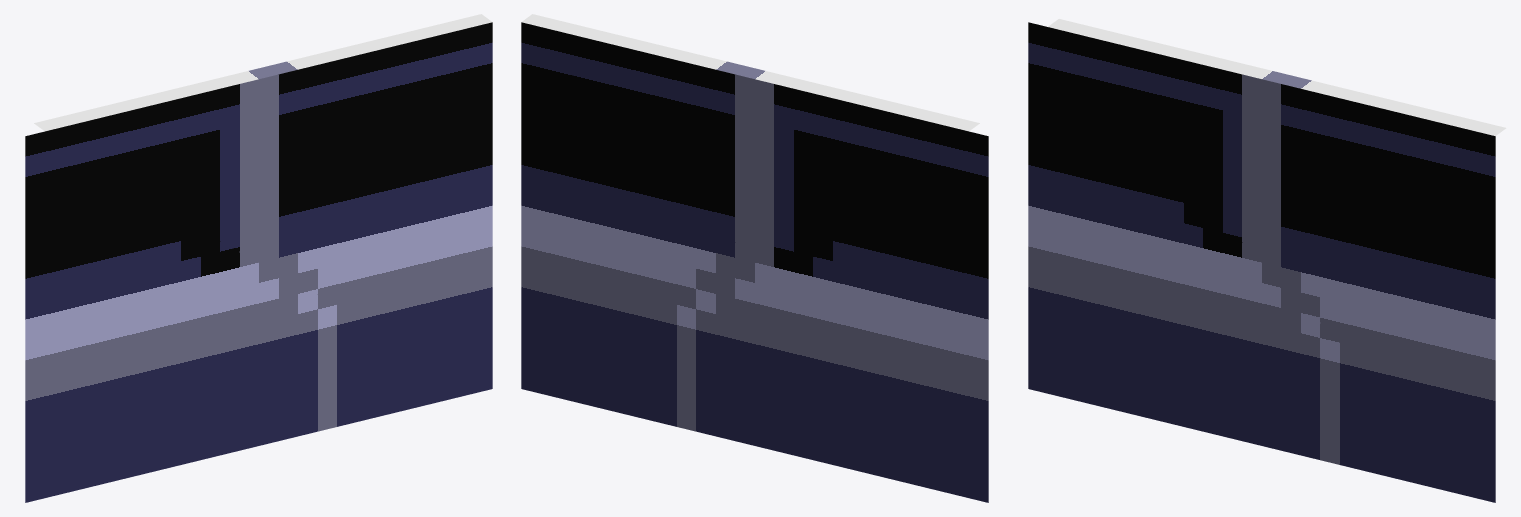
Rendered from hitek_tile_019.gltf.
The picture shows the model from 3 angles, left to right: view 1: azimuth 30°, elevation 25°; view 2: azimuth 150°, elevation 25°; view 3: azimuth 330°, elevation 25°; orthographic projection.
Parts seen in each view (by area): view 1: hitek_tile_019; view 2: hitek_tile_019; view 3: hitek_tile_019.
Part boxes in pixels (x1,y1,x2,y2): hitek_tile_019: (25,14,492,502); hitek_tile_019: (521,14,988,502); hitek_tile_019: (1028,19,1506,502).
Size of the model in its own units: 16 by 12 by 0.6667.
1 material, 1 textured.
